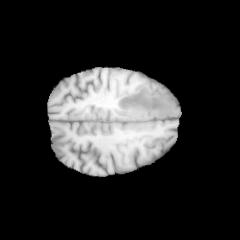glioma: (116, 90, 171, 119)
